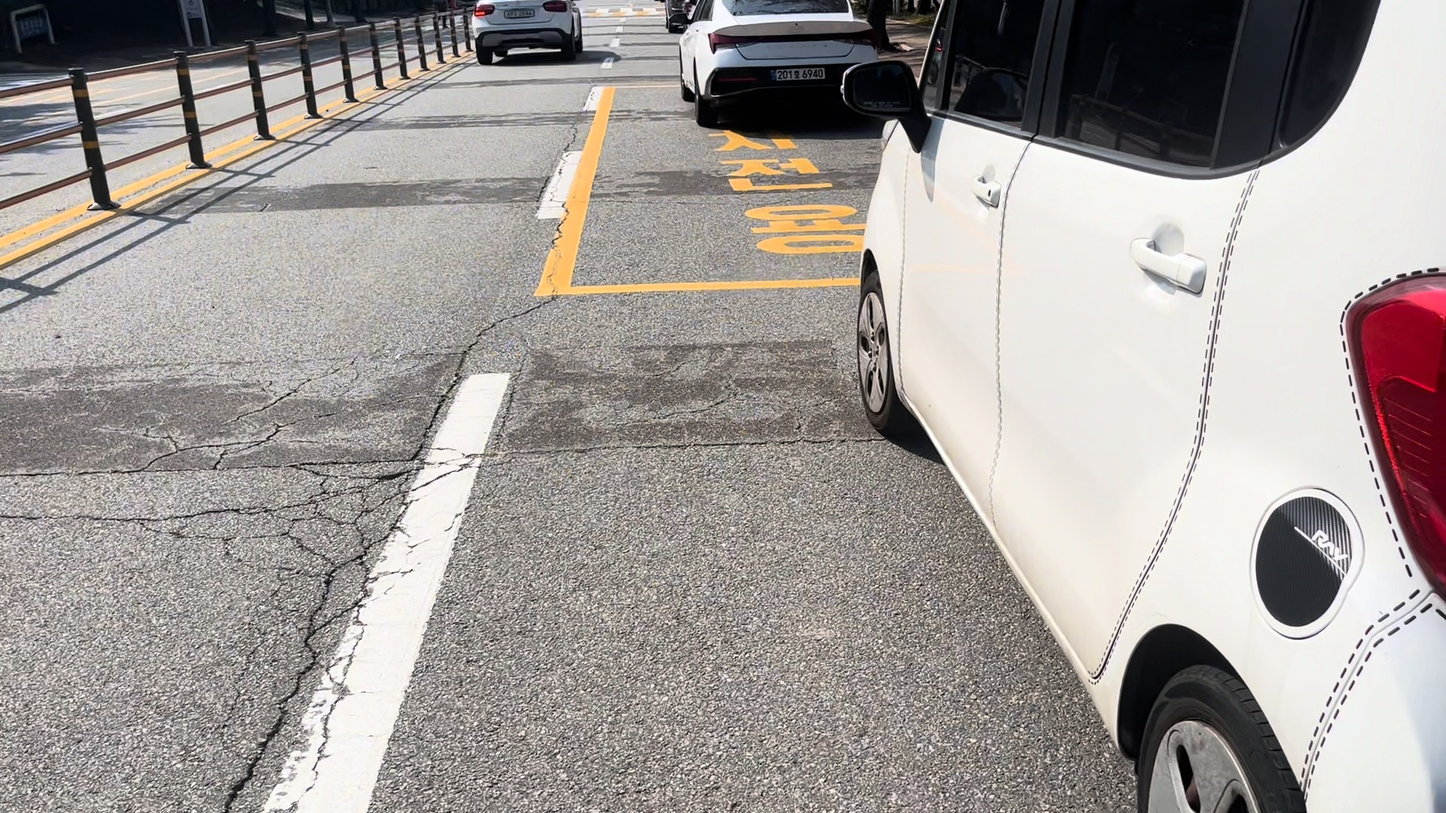door_handle: (1130, 240, 1207, 293), (972, 178, 1001, 207)
fuel_cap: (1258, 493, 1361, 629)
side_mirror: (842, 60, 928, 151)
tail_light: (1348, 276, 1445, 591), (708, 32, 758, 52), (542, 0, 567, 12), (474, 3, 495, 17)
